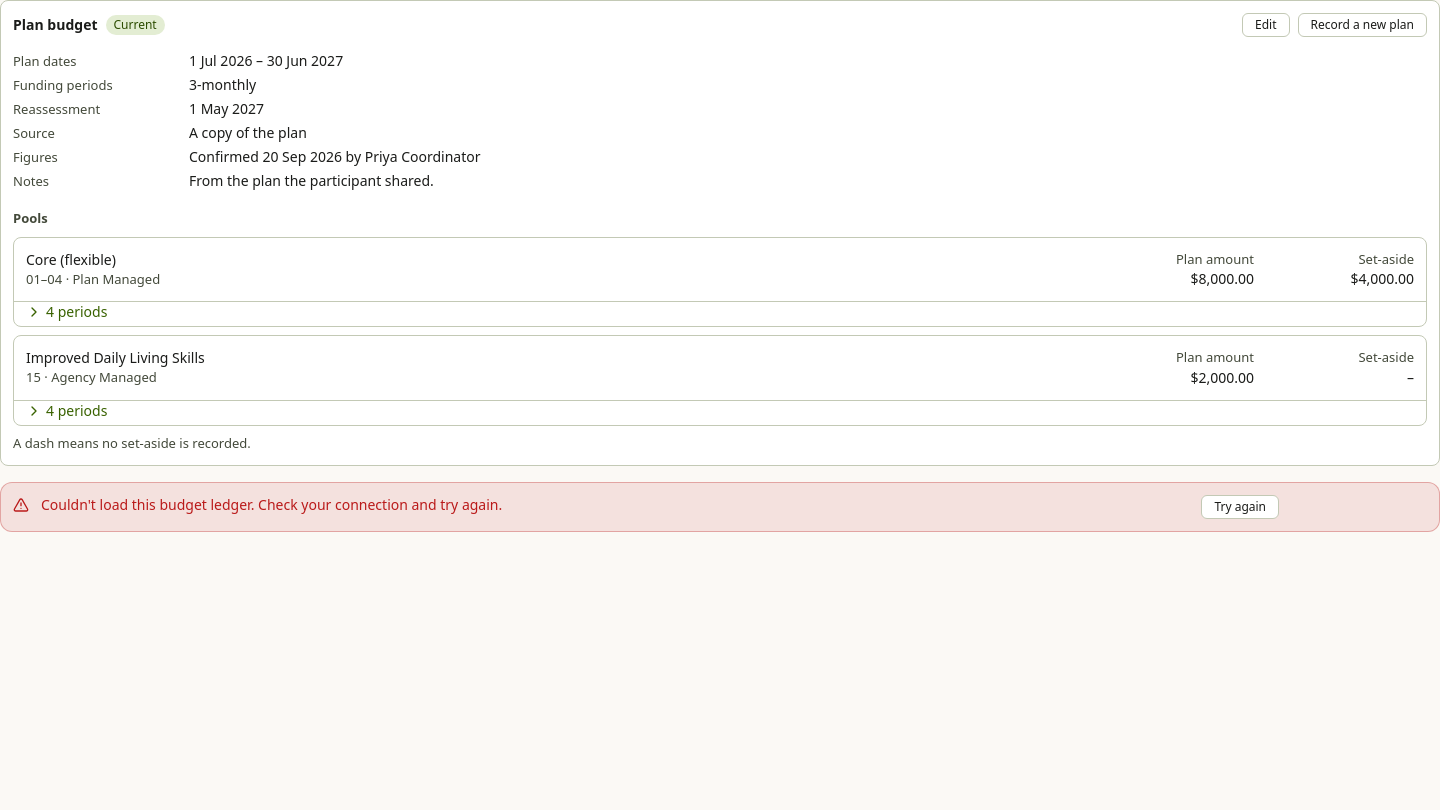
Scenario: Funding tab: a recorded plan › opens a pool’s periods directly under that pool, and the control always points at something in the page
This screenshot has width=1440, height=810.
Check: the element "Periods of Core" is not shown
Click the button with aria-label "4 periods of Core (flexible)" at (67, 312), box [26, 302, 107, 322]
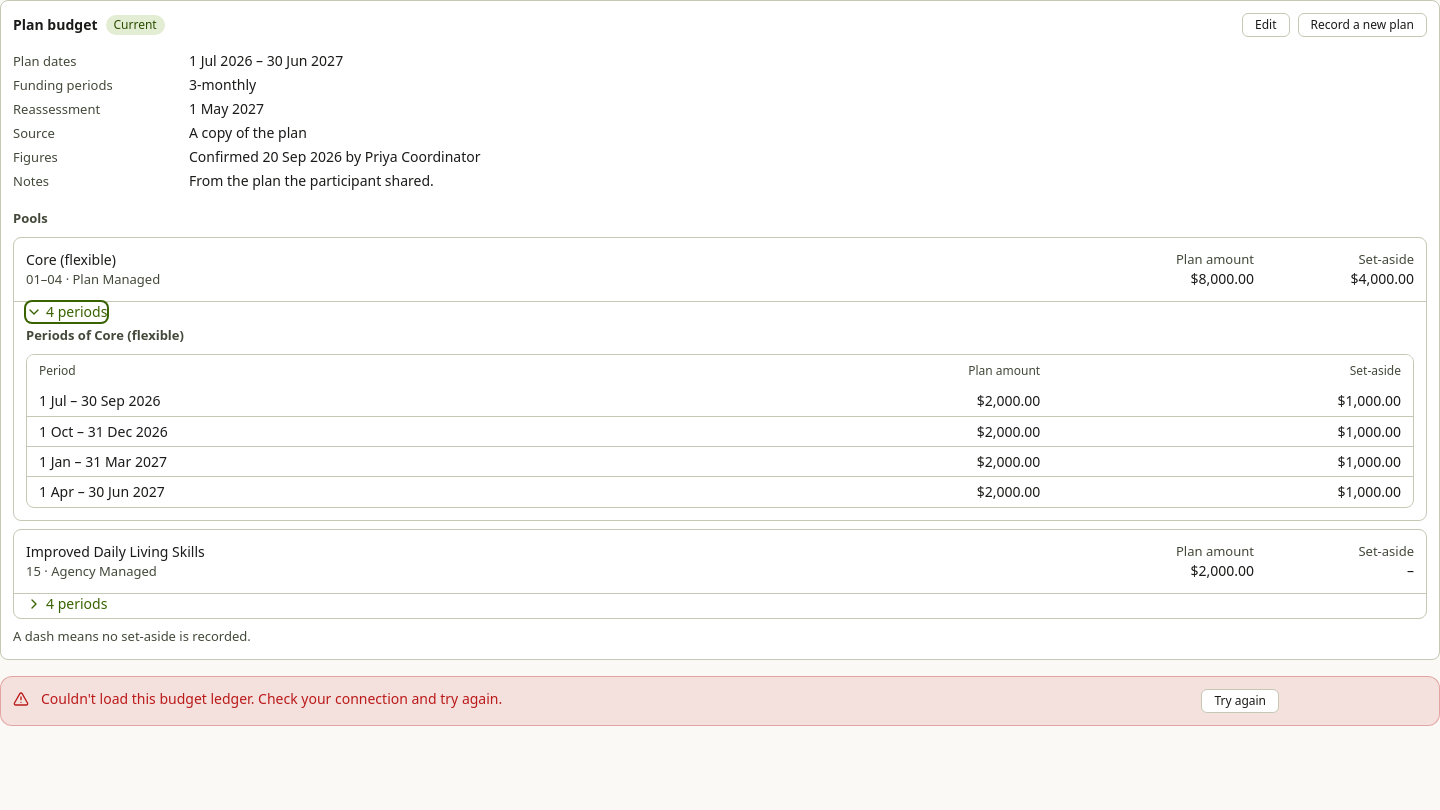
Check: the button with aria-label "4 periods of Core (flexible)" is expanded
Check: the text "1 Jul – 30 Sep 2026" is shown, box [39, 391, 160, 410]
Check: the text "$2,000.00" is shown 4 times, box [977, 391, 1040, 410]; [977, 422, 1040, 440]; [977, 452, 1040, 470]; [977, 482, 1040, 501]
Click the button with aria-label "4 periods of Core (flexible)" at (67, 312), box [26, 302, 107, 322]
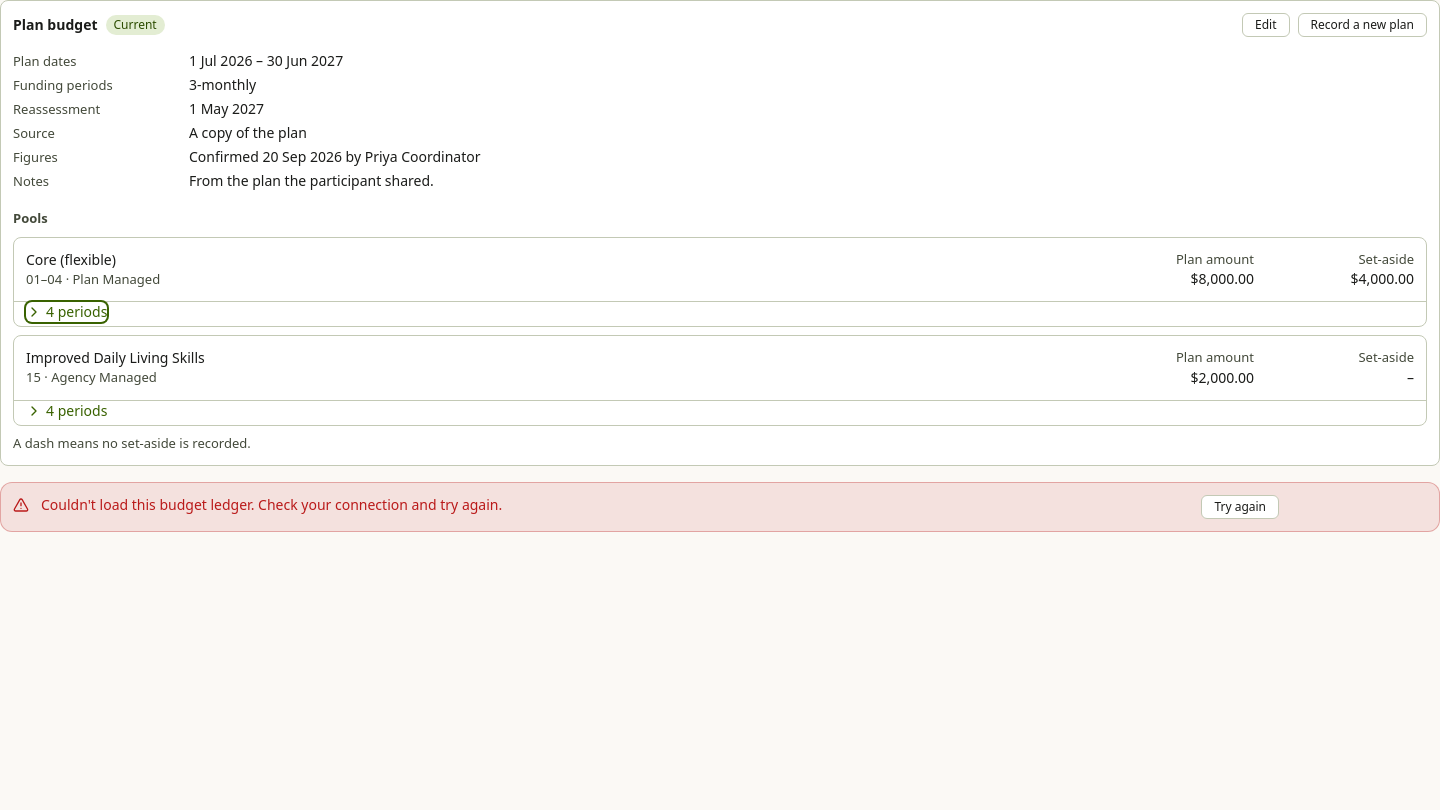
Check: the heading "Periods of Core" is gone
